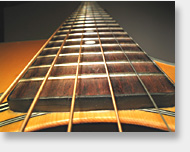guitar: (1, 1, 176, 132)
